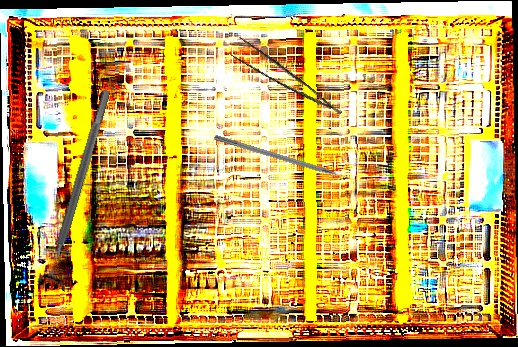Fixation Ring: (34, 86, 123, 292)
Hook Surgical: (213, 134, 356, 185)
Tissue Forceps: (225, 32, 343, 131)
